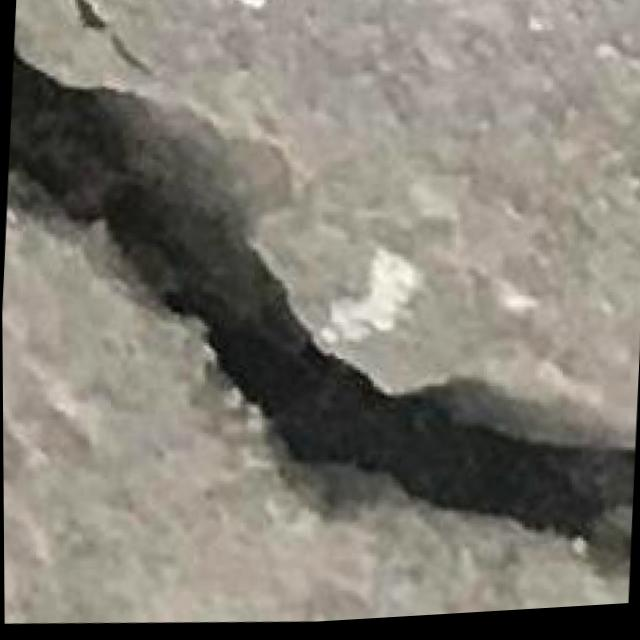Crack: (0, 18, 640, 616)
